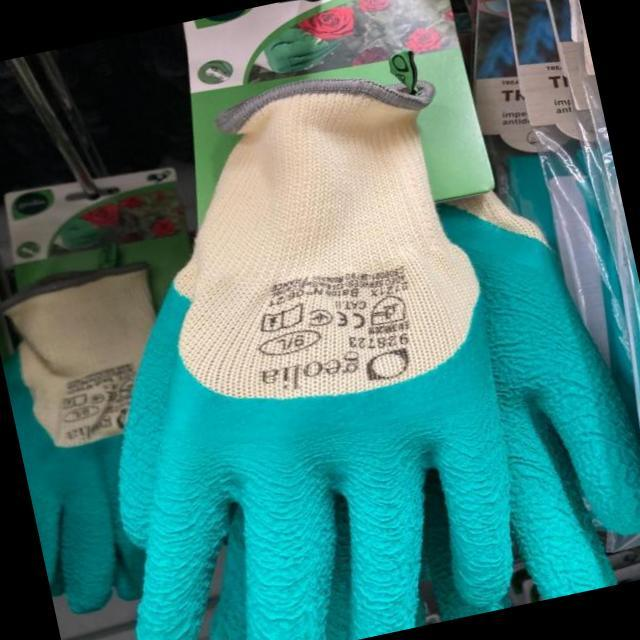glove: (112, 74, 514, 639), (445, 189, 639, 597), (0, 265, 155, 612)
